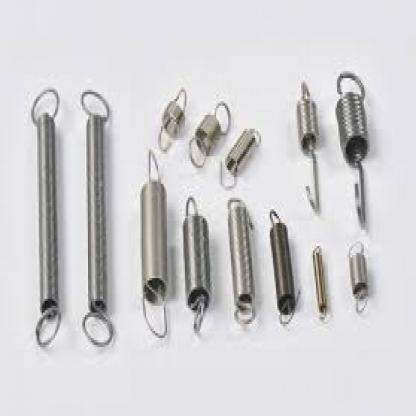FOD: (24, 85, 70, 349), (77, 86, 123, 348), (138, 144, 175, 339), (332, 63, 373, 231), (180, 190, 217, 336), (222, 199, 261, 323), (268, 200, 303, 338), (292, 74, 324, 216), (189, 94, 230, 170), (219, 122, 264, 191), (157, 78, 190, 159), (311, 232, 332, 326), (348, 238, 372, 318)
